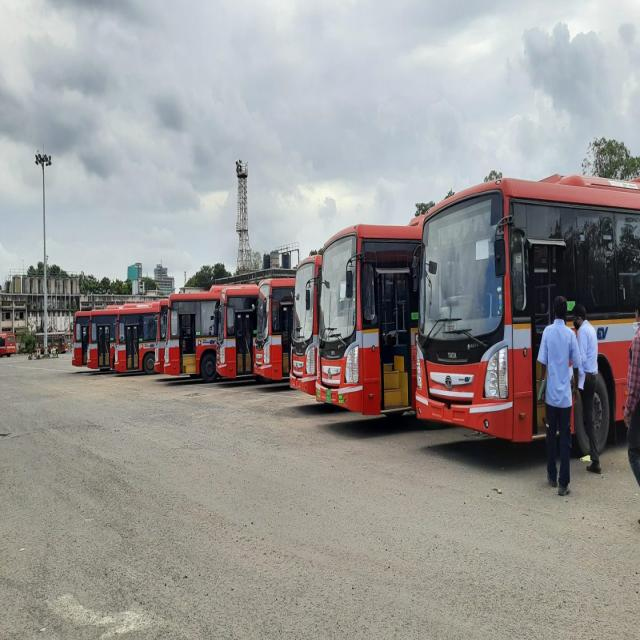bus: (416, 176, 640, 446), (315, 216, 424, 414), (164, 284, 220, 382), (254, 278, 295, 380), (216, 284, 259, 378), (114, 302, 159, 373), (88, 307, 119, 370)
